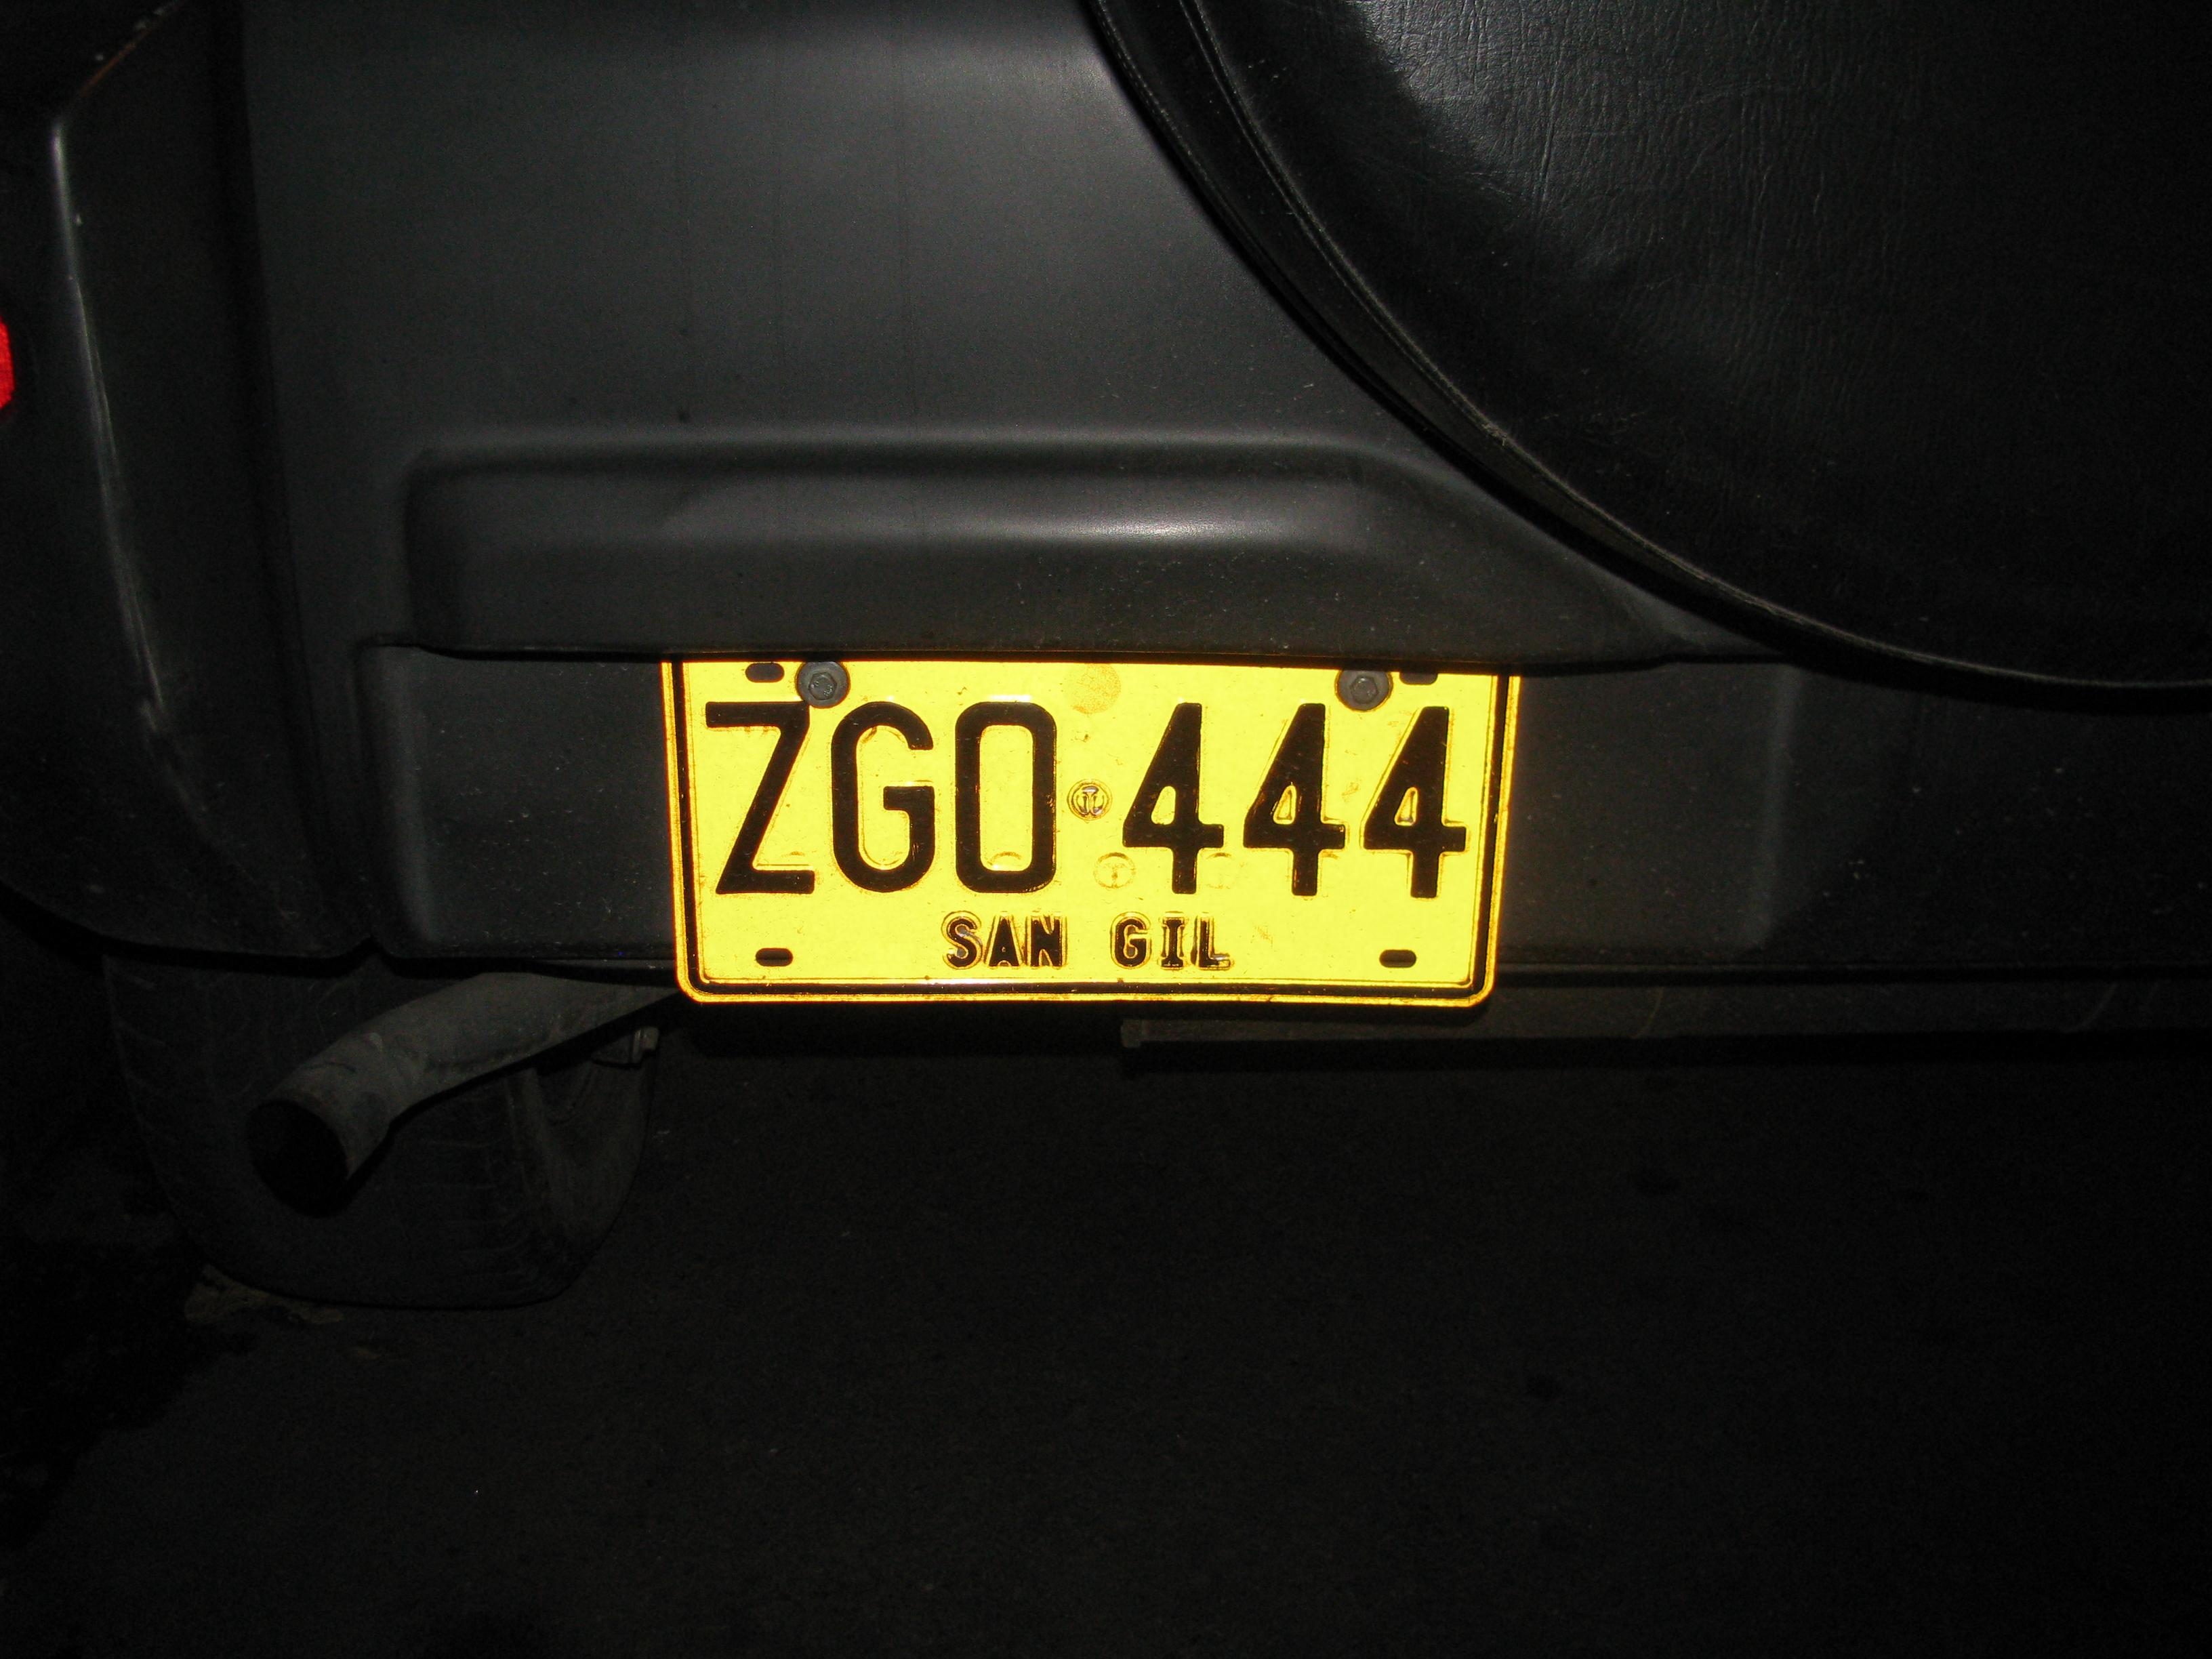placas: (652, 634, 1522, 1019)
